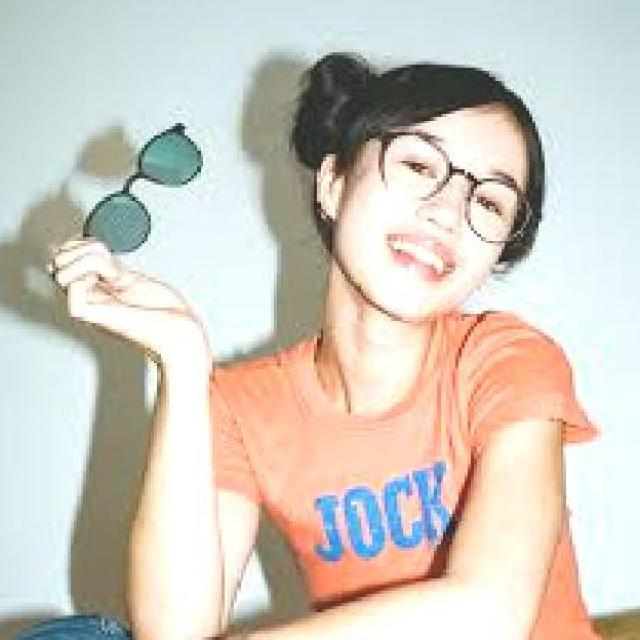glasses: (360, 127, 532, 256)
sunglasses: (74, 114, 210, 262)
